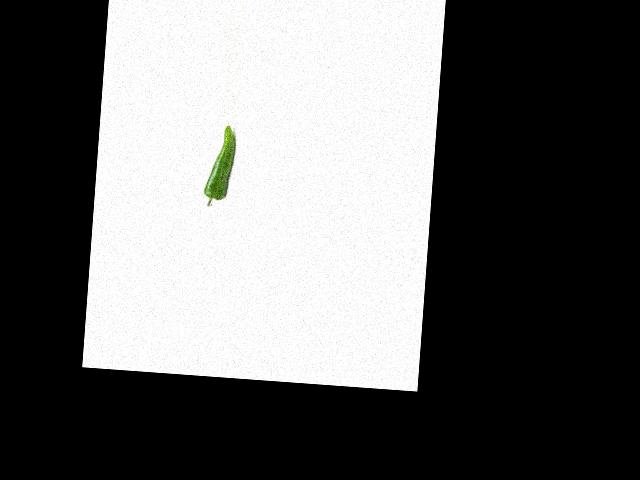bell_pepper: (201, 123, 238, 211)
